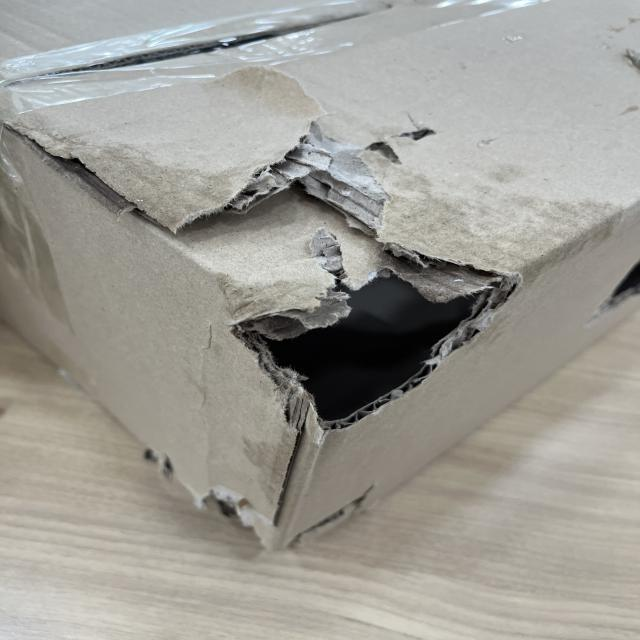hole: (213, 244, 521, 436)
